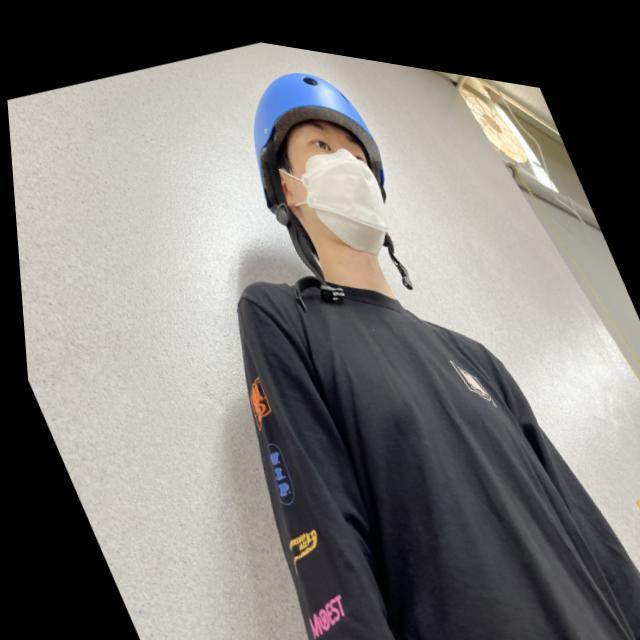Helmet: (249, 69, 416, 290)
